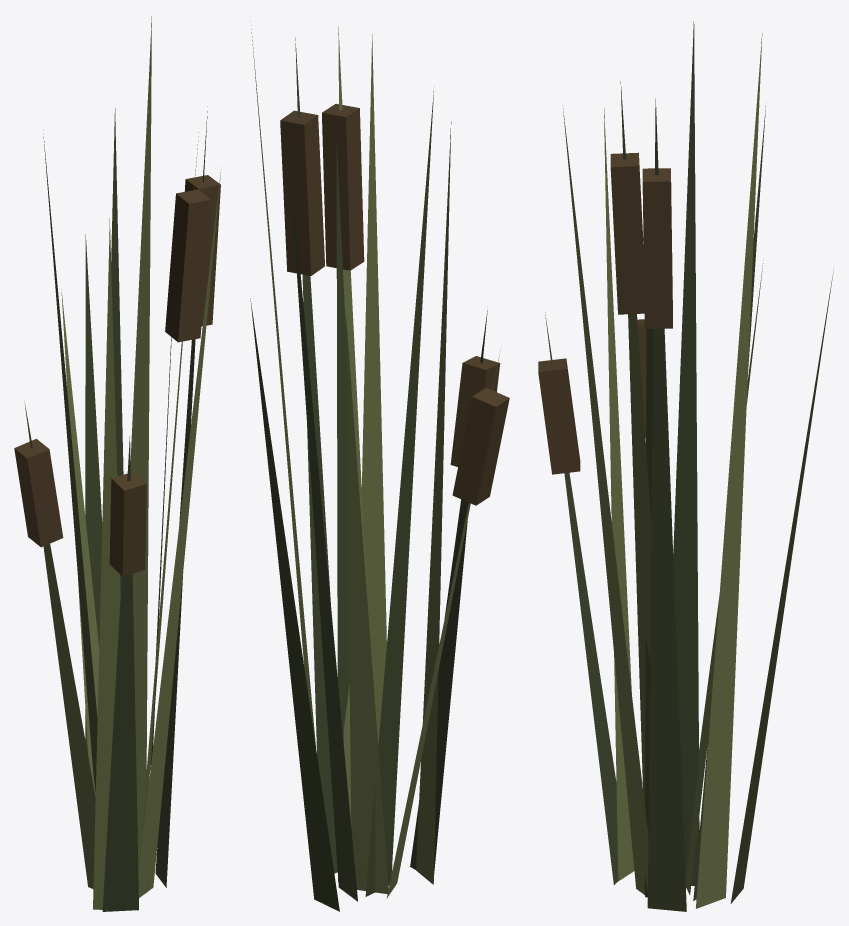
Rendered from drowned_reeds.glb.
The picture shows the model from 3 angles, left to right: view 1: azimuth 30°, elevation 25°; view 2: azimuth 150°, elevation 25°; view 3: azimuth 270°, elevation 25°; orthographic projection. The views are drawn at different scales.
Parts seen in each view (by area): view 1: drowned_reeds; view 2: drowned_reeds; view 3: drowned_reeds.
Boxes of the visible parts, x1=… form: drowned_reeds: x1=14, y1=16, x2=221, y2=911; drowned_reeds: x1=250, y1=21, x2=509, y2=911; drowned_reeds: x1=538, y1=21, x2=833, y2=911.
Size of the model in its own units: 0.2482 by 0.9917 by 0.2962.
